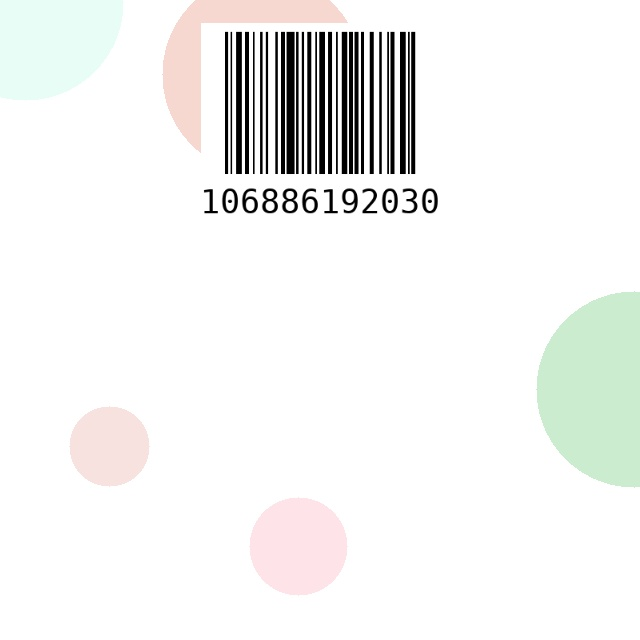barcode: (201, 23, 439, 247)
